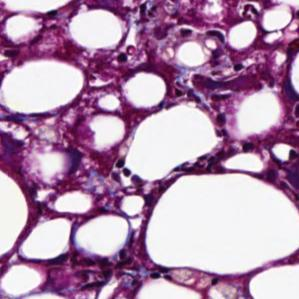inflammation: (168, 22, 229, 45)
